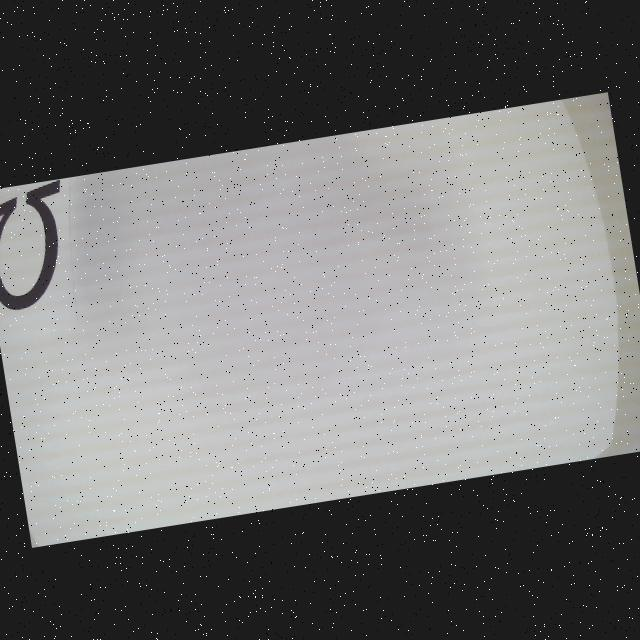OMEGA: (0, 179, 80, 314)
